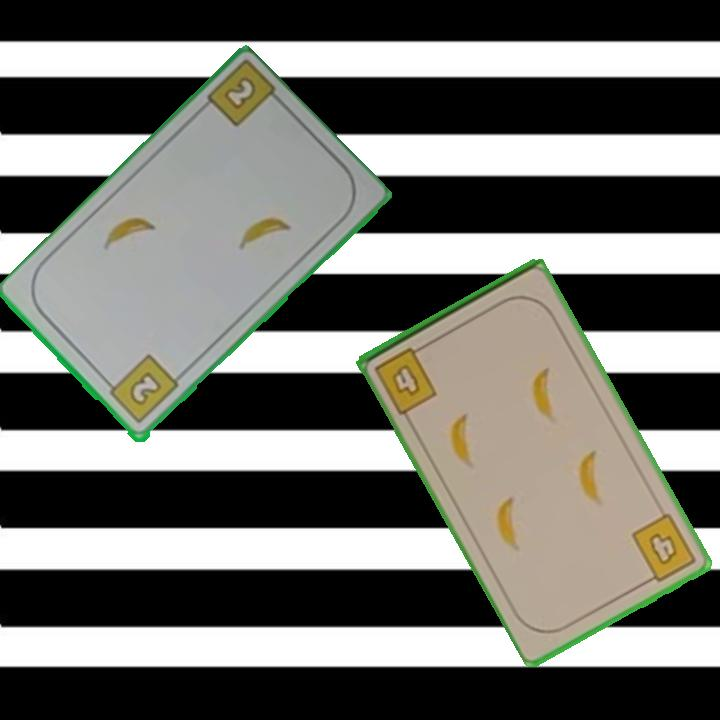2b: (101, 351, 182, 427), (220, 73, 260, 114)
4b: (628, 509, 700, 588), (371, 340, 441, 418)
